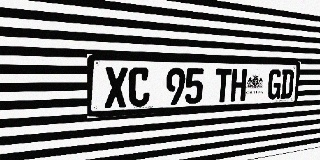5: (185, 68, 204, 104)
9: (165, 68, 186, 105)
C: (128, 67, 150, 107)
D: (280, 69, 294, 99)
G: (267, 69, 282, 100)
H: (230, 69, 247, 102)
T: (214, 68, 232, 102)
X: (104, 67, 128, 108)
